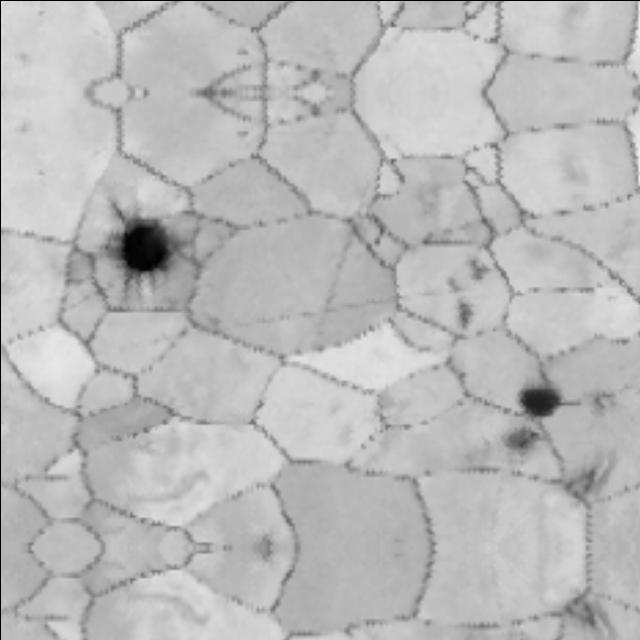good_void: (550, 434, 628, 526), (104, 208, 185, 282), (550, 570, 625, 640), (500, 380, 568, 431), (437, 248, 497, 303), (496, 424, 544, 460), (581, 381, 623, 422), (223, 118, 261, 147), (223, 37, 261, 66), (22, 147, 52, 183), (22, 1, 52, 37), (365, 225, 391, 250), (453, 301, 474, 329)
